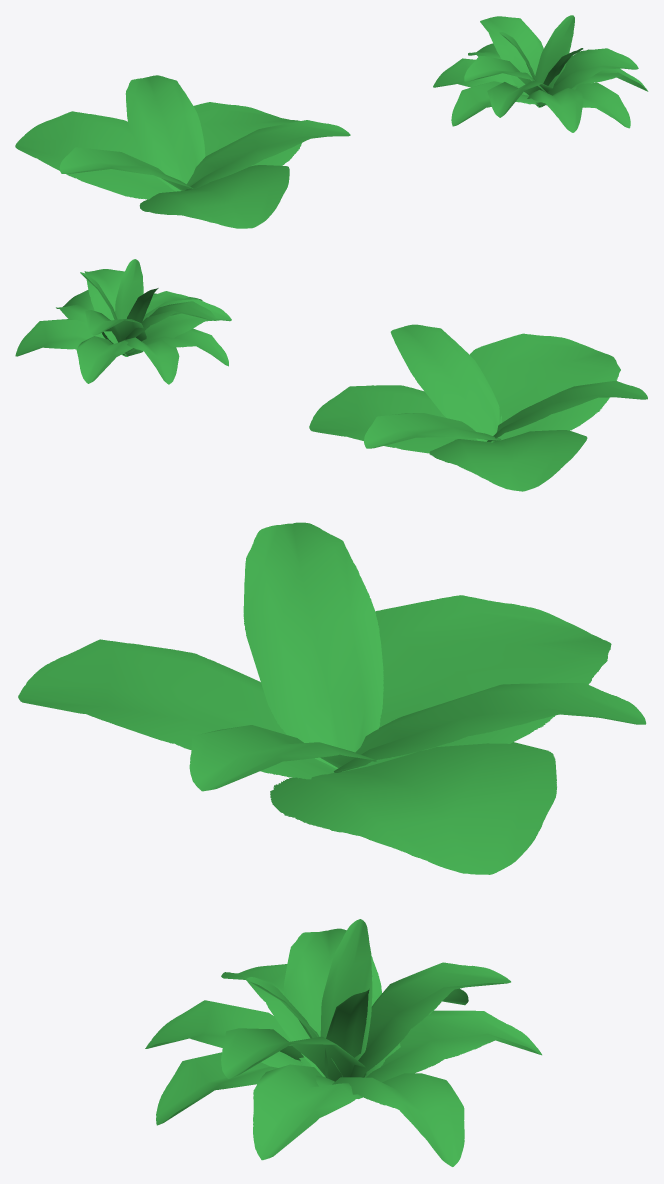
Rendered from Bushes.fbx.
3 renders of one model, top to bottom at view 1: azimuth 30°, elevation 25°; view 2: azimuth 150°, elevation 25°; view 3: azimuth 270°, elevation 25°, orthographic. The views are drawn at different scales.
Parts seen in each view (by area): view 1: Bush 02, Bush 01; view 2: Bush 02, Bush 01; view 3: Bush 02, Bush 01.
Part boxes in pixels (<box>): Bush 02: <box>15,75,350,228</box>; Bush 01: <box>433,15,648,132</box>; Bush 02: <box>309,324,647,491</box>; Bush 01: <box>15,259,231,384</box>; Bush 02: <box>18,522,646,874</box>; Bush 01: <box>145,919,541,1166</box>.
Bounding box in the file's own units: 492 × 65.41 × 248.
